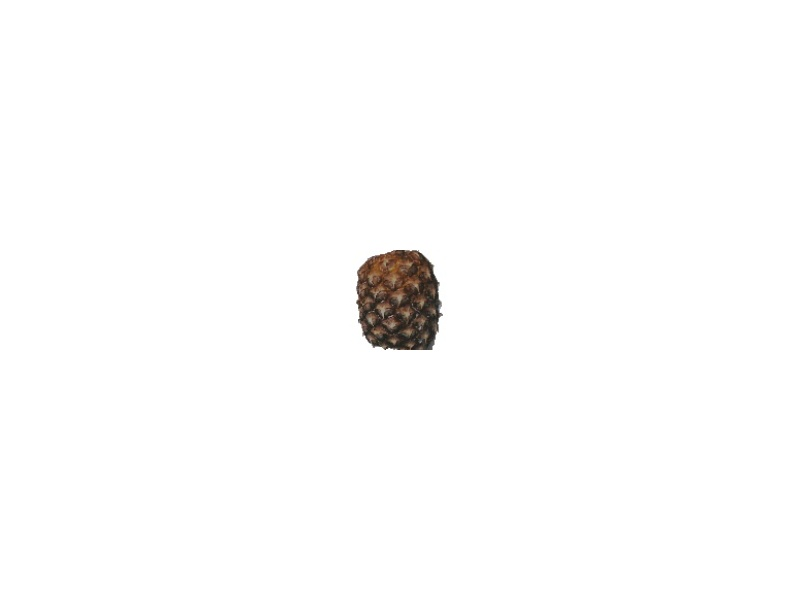abacaxi: (353, 245, 442, 355)
